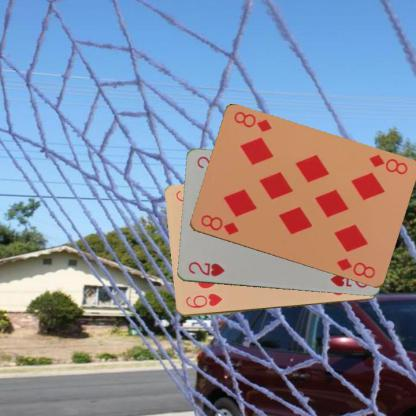2h: (186, 259, 226, 278)
6h: (182, 290, 224, 310)
8d: (198, 212, 240, 236), (366, 152, 408, 176)
